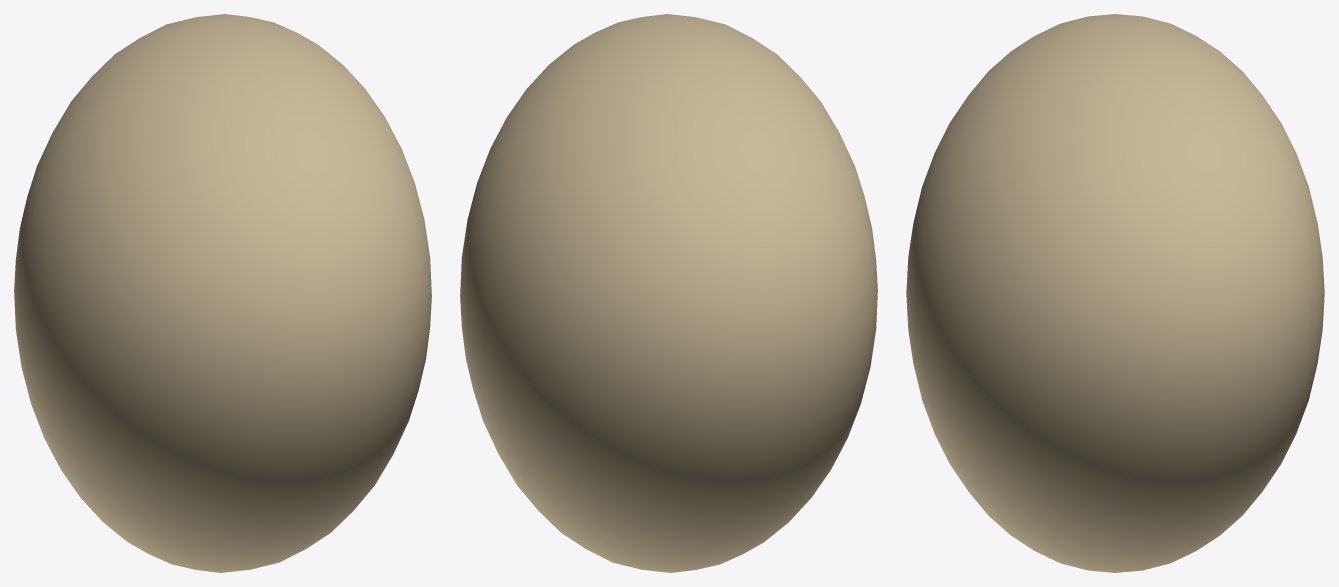
The model's file is lifecycle_chicken_egg_brown.glb.
3 renders of one model, left to right at view 1: azimuth 30°, elevation 25°; view 2: azimuth 150°, elevation 25°; view 3: azimuth 270°, elevation 25°, orthographic.
Parts seen in each view (by area): view 1: egg_body; view 2: egg_body; view 3: egg_body.
Boxes of the visible parts, bbox=[...] form: egg_body: bbox=[14, 14, 431, 572]; egg_body: bbox=[460, 14, 877, 572]; egg_body: bbox=[906, 14, 1324, 572].
Bounding box in the file's own units: 0.063 × 0.0882 × 0.063.
